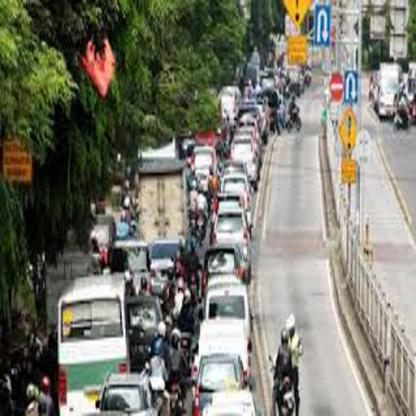bus: (57, 274, 129, 414)
car: (204, 286, 254, 349), (192, 354, 244, 408), (110, 238, 148, 300), (149, 239, 183, 296), (211, 208, 251, 254)
motorbike: (273, 360, 296, 415)
